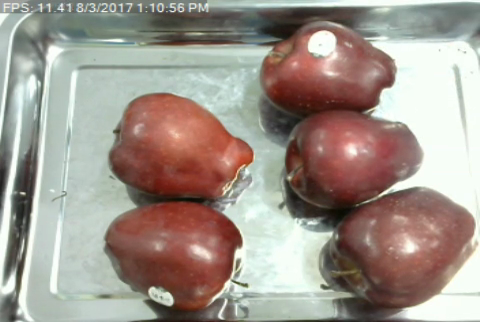Apple: (326, 185, 478, 313), (103, 90, 256, 203), (101, 199, 248, 313), (280, 107, 425, 213), (257, 19, 395, 119)
